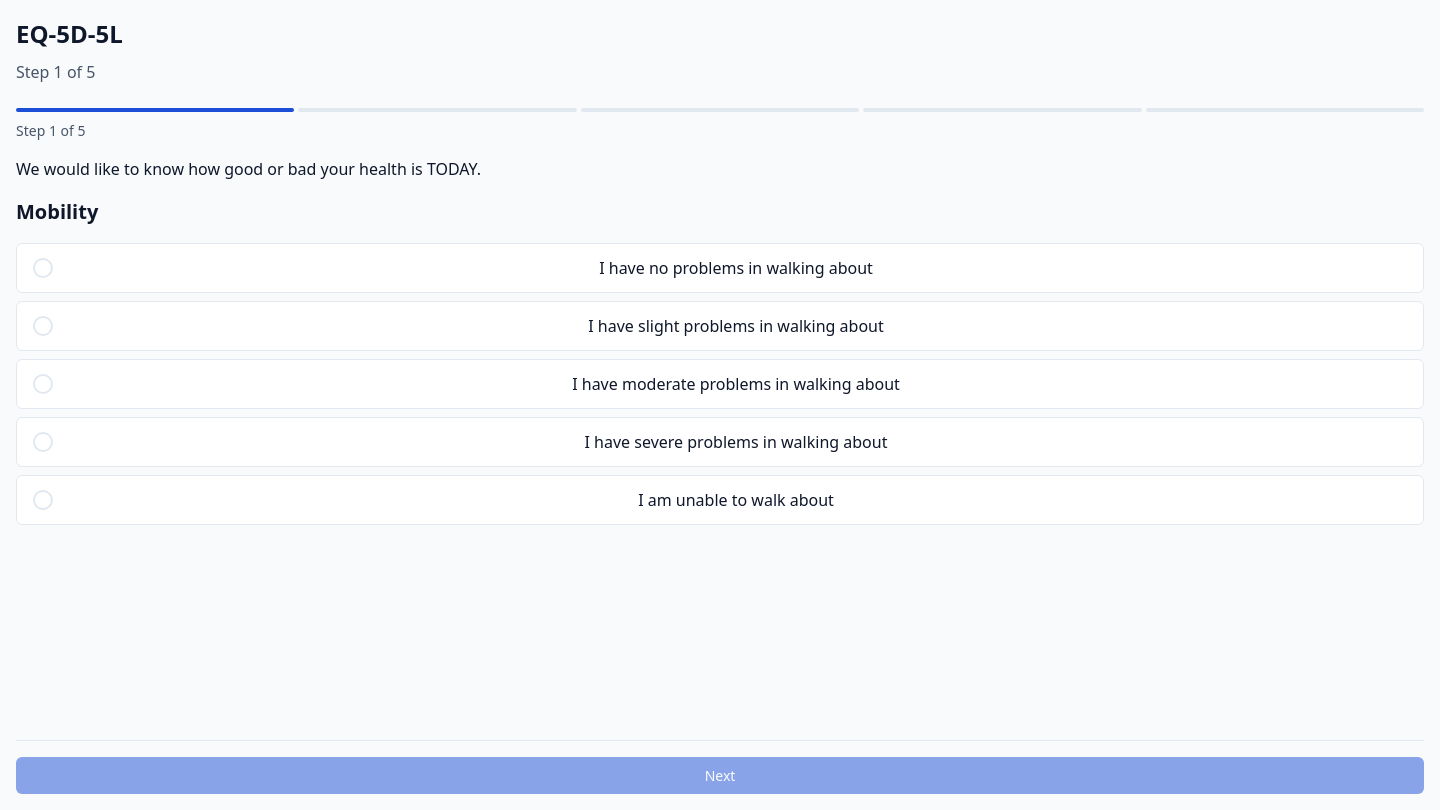
Eq5d5lStepScreen › disables Next until a radio is selected
Check: the button "Next" is disabled, box [16,757,1424,794]
What coordinates should you click on to do the following:
click the radio button labelled "I have no problems in walking about"
I would click on:
 (720, 268)
Its box is [16,243,1424,293].
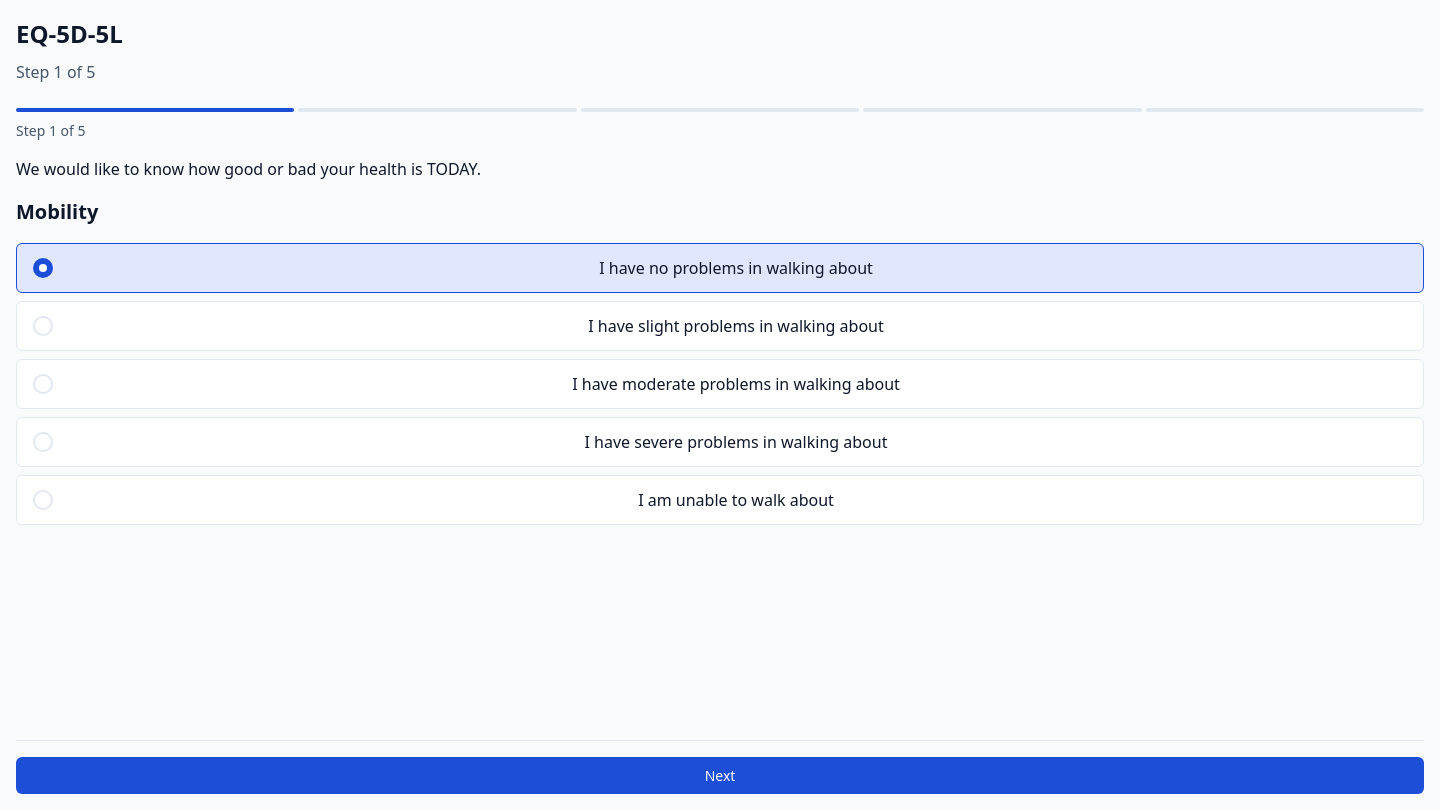
Check: the button "Next" is enabled, box [16,757,1424,794]
